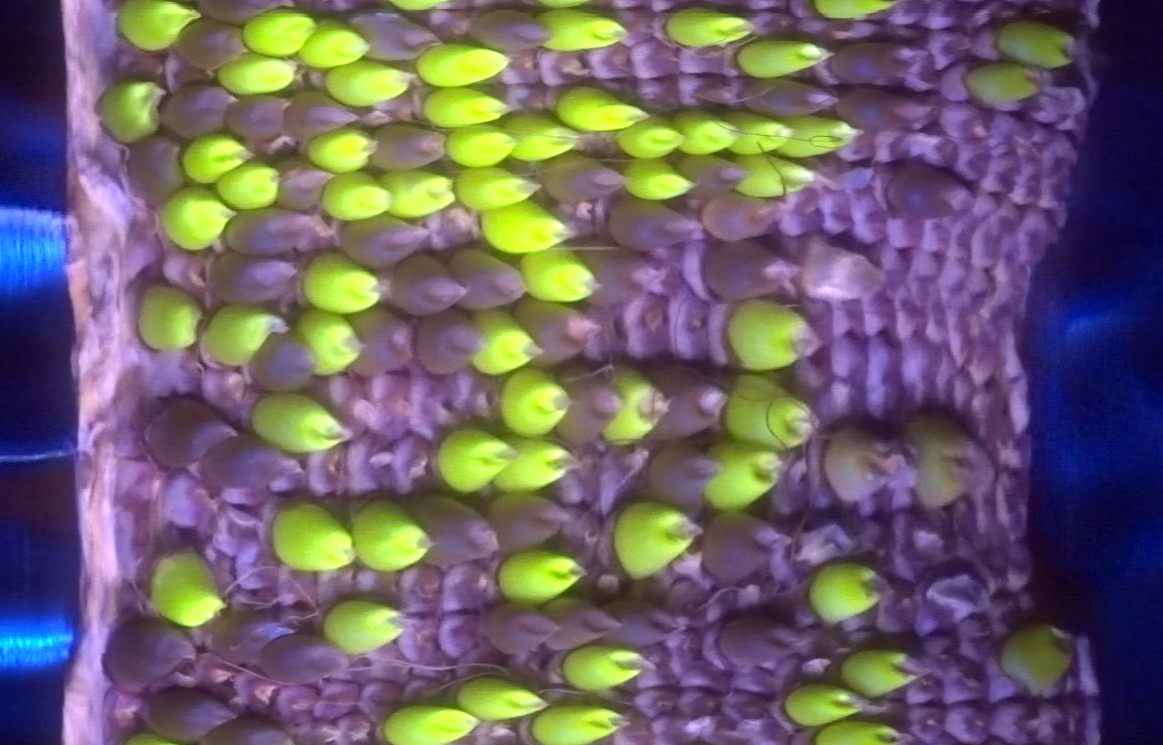fluorescent: (907, 412, 979, 519), (719, 372, 817, 446), (614, 504, 698, 573), (696, 440, 783, 506), (149, 554, 226, 628), (733, 306, 823, 368), (271, 502, 353, 569), (250, 397, 350, 450), (604, 363, 664, 449), (827, 424, 893, 502), (349, 506, 431, 568), (496, 433, 576, 496), (1000, 619, 1072, 689), (437, 428, 513, 489), (302, 253, 382, 310), (212, 305, 284, 368), (469, 314, 541, 376), (500, 374, 568, 438), (480, 204, 573, 250), (297, 308, 362, 373), (737, 35, 831, 76), (500, 553, 582, 600), (138, 290, 200, 352), (116, 2, 196, 49), (808, 568, 889, 614), (996, 20, 1076, 65), (327, 601, 400, 650), (531, 12, 623, 50), (379, 169, 455, 214), (842, 650, 918, 695), (99, 85, 159, 141), (324, 63, 414, 100), (458, 167, 539, 208), (416, 48, 505, 85), (520, 253, 593, 298), (731, 155, 815, 194), (535, 705, 628, 740), (455, 680, 545, 716), (503, 117, 580, 159), (560, 89, 647, 126), (958, 60, 1043, 97), (159, 198, 227, 244), (421, 87, 505, 124), (782, 114, 857, 155), (726, 108, 791, 155), (563, 650, 654, 683), (622, 155, 691, 197), (791, 683, 865, 722), (383, 709, 476, 740), (216, 59, 298, 93), (664, 10, 747, 43), (675, 110, 737, 154), (240, 18, 316, 53), (319, 179, 389, 217), (216, 167, 278, 207), (304, 28, 366, 66), (449, 126, 511, 163), (184, 141, 248, 176), (814, 718, 900, 742), (305, 134, 371, 163), (615, 118, 677, 148), (812, 2, 900, 20)
nonfluorescent: (104, 611, 197, 689), (138, 396, 229, 464), (704, 238, 798, 297), (706, 509, 775, 586), (423, 497, 498, 567), (608, 196, 703, 249), (209, 435, 304, 488), (891, 159, 972, 221), (448, 248, 529, 309), (522, 302, 591, 370), (208, 254, 301, 304), (493, 492, 568, 554), (338, 215, 433, 263), (701, 190, 786, 243), (833, 37, 923, 87), (717, 618, 806, 668), (262, 631, 348, 682), (663, 362, 718, 441), (393, 253, 463, 314), (584, 245, 660, 301), (145, 684, 233, 732), (222, 208, 317, 252), (648, 446, 713, 509), (353, 10, 433, 61), (563, 373, 618, 447), (354, 314, 413, 382), (485, 602, 560, 654), (838, 84, 936, 123), (254, 331, 316, 392), (550, 595, 614, 654), (548, 150, 621, 201), (415, 315, 478, 374), (283, 91, 361, 138), (371, 123, 449, 169), (611, 597, 680, 649), (164, 84, 233, 135), (747, 79, 842, 116), (182, 17, 248, 69), (128, 135, 180, 199), (678, 154, 755, 194), (227, 92, 290, 140), (212, 611, 274, 659), (473, 14, 547, 54), (278, 159, 330, 209), (212, 718, 298, 745)
